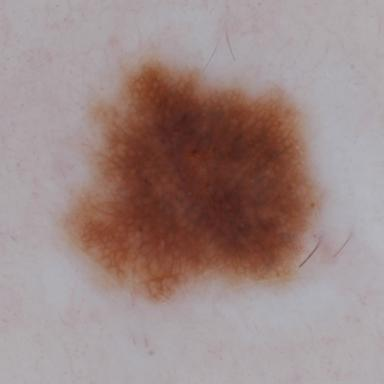nevus: (73, 63, 319, 298)
